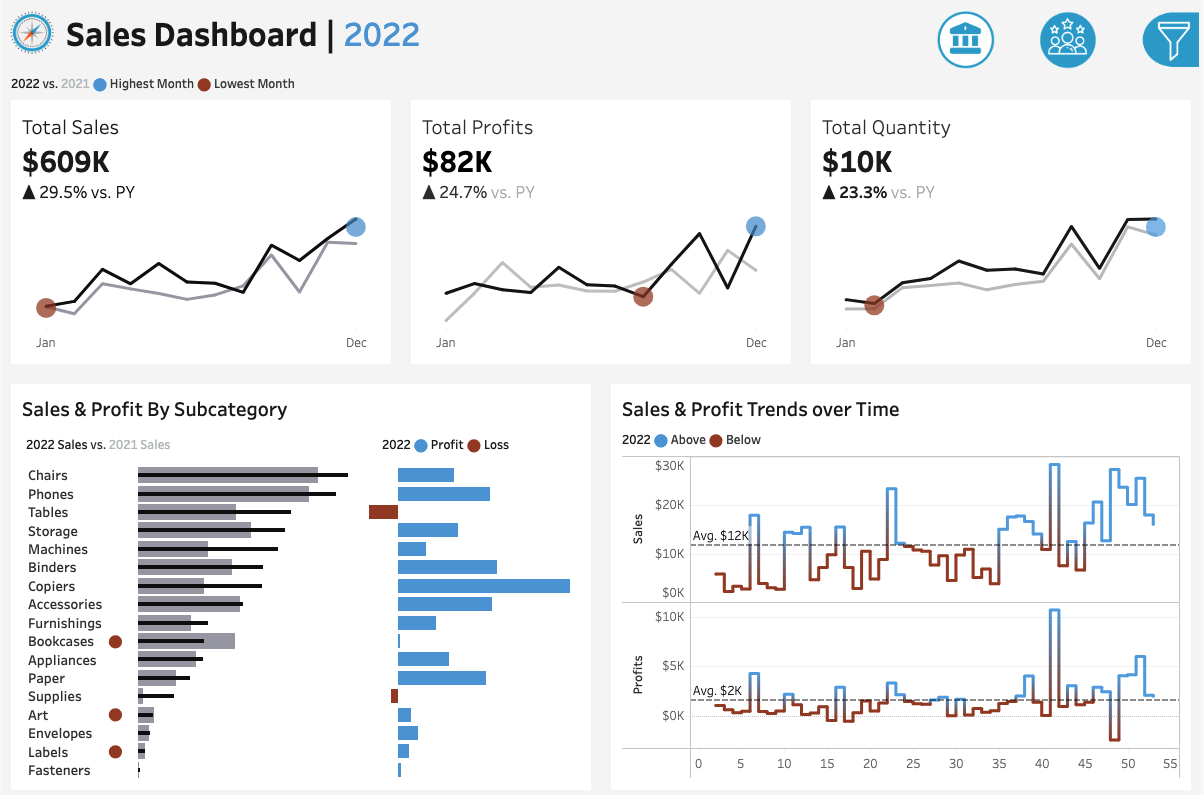

Layout of this report page (visuals, bound fields, positions):
{"tool":"tableau","page":{"name":"Sales Dashboard","canvas":[1200,800],"ordinal":1},"visuals":[{"type":"image","param":"/Users/new/Downloads/Tutorials/Projects/Data_Analysis/Sales_and_Customers_Tablea","box":[0,0,61,66]},{"type":"text","box":[61,0,827,66]},{"type":"dashboard-object","box":[914,7,102,66]},{"type":"dashboard-object","box":[1016,7,102,66]},{"type":"worksheet","title":"Legend KPI","mark":"Automatic","box":[0,66,1200,34]},{"type":"text","box":[1051,79,137,35]},{"type":"worksheet","title":"KPI Sales","mark":"Automatic","rows":["Calculation_2715178057977692164"],"cols":["Order Date"],"box":[0,100,400,274]},{"type":"worksheet","title":"KPI Profit","mark":"Automatic","rows":["Min/Max Sales (copy)_4621326600278089730"],"cols":["Order Date"],"box":[400,100,400,274]},{"type":"worksheet","title":"KPI Quantity","mark":"Automatic","rows":["Min/Max Profit (copy)_6526982561363886086"],"cols":["Order Date"],"box":[800,100,400,274]},{"type":"parameter","param":"[Parameters].[Parameter 1]","box":[1051,114,137,56]},{"type":"blank","box":[1051,170,137,44]},{"type":"text","box":[1051,214,137,29]},{"type":"filter","title":"KPI Sales","param":"[federated.1fcs4s110w9zai1g4v45h0vdus2x].[none:Category:nk]","box":[1051,243,137,52]},{"type":"filter","title":"KPI Sales","param":"[federated.1fcs4s110w9zai1g4v45h0vdus2x].[none:Sub-Category:nk]","box":[1051,295,137,52]},{"type":"blank","box":[1051,347,137,42]},{"type":"text","box":[1051,389,137,29]},{"type":"text","box":[17,391,566,34]},{"type":"text","box":[617,391,566,34]},{"type":"filter","title":"KPI Sales","param":"[federated.1fcs4s110w9zai1g4v45h0vdus2x].[none:Region:nk]","box":[1051,418,137,52]},{"type":"worksheet","title":"Legend Subcategory","mark":"Automatic","box":[17,425,360,36]},{"type":"text","box":[377,425,206,36]},{"type":"text","box":[617,425,566,25]},{"type":"worksheet","title":"Weekly Trends","mark":"Line","rows":["Calculation_2715178057973075968","CY Sales (copy)_4621326600278147075"],"cols":["Order Date"],"box":[617,450,566,333]},{"type":"worksheet","title":"Subcategory Comparison","mark":"Bar","rows":["Sub-Category","Calculation_1398086273239773184"],"cols":["CY Sales (copy)_2715178057973440513","Calculation_2715178057973075968","CY Sales (copy)_4621326600278147075"],"box":[17,461,566,321.9]},{"type":"filter","title":"KPI Sales","param":"[federated.1fcs4s110w9zai1g4v45h0vdus2x].[none:State:nk]","box":[1051,470,137,52]},{"type":"filter","title":"KPI Sales","param":"[federated.1fcs4s110w9zai1g4v45h0vdus2x].[none:City:nk]","box":[1051,522,137,52]}]}

Visuals, with their boxes in screenshot pixels (x1, y1, x2, y2), scaled from the page's 1200x800 canvas onto the 1204x795 screenshot:
image: select_region(0, 0, 61, 66)
text: select_region(61, 0, 891, 66)
dashboard-object: select_region(917, 7, 1019, 73)
dashboard-object: select_region(1019, 7, 1122, 73)
"Legend KPI" worksheet: select_region(0, 66, 1203, 99)
text: select_region(1055, 79, 1192, 113)
"KPI Sales" worksheet: select_region(0, 99, 401, 372)
"KPI Profit" worksheet: select_region(401, 99, 803, 372)
"KPI Quantity" worksheet: select_region(803, 99, 1203, 372)
parameter: select_region(1055, 113, 1192, 169)
blank: select_region(1055, 169, 1192, 213)
text: select_region(1055, 213, 1192, 241)
"KPI Sales" filter: select_region(1055, 241, 1192, 293)
"KPI Sales" filter: select_region(1055, 293, 1192, 345)
blank: select_region(1055, 345, 1192, 387)
text: select_region(1055, 387, 1192, 415)
text: select_region(17, 389, 585, 422)
text: select_region(619, 389, 1187, 422)
"KPI Sales" filter: select_region(1055, 415, 1192, 467)
"Legend Subcategory" worksheet: select_region(17, 422, 378, 458)
text: select_region(378, 422, 585, 458)
text: select_region(619, 422, 1187, 447)
"Weekly Trends" worksheet (Line marks): select_region(619, 447, 1187, 778)
"Subcategory Comparison" worksheet (Bar marks): select_region(17, 458, 585, 778)
"KPI Sales" filter: select_region(1055, 467, 1192, 519)
"KPI Sales" filter: select_region(1055, 519, 1192, 570)
